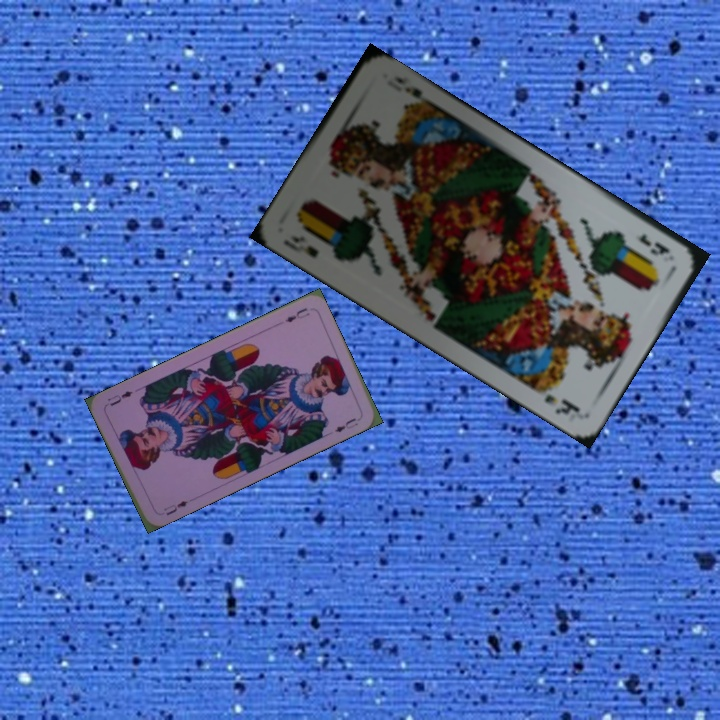EK: (278, 231, 321, 260), (634, 229, 674, 259)
EU: (281, 303, 312, 325), (160, 496, 190, 518)
